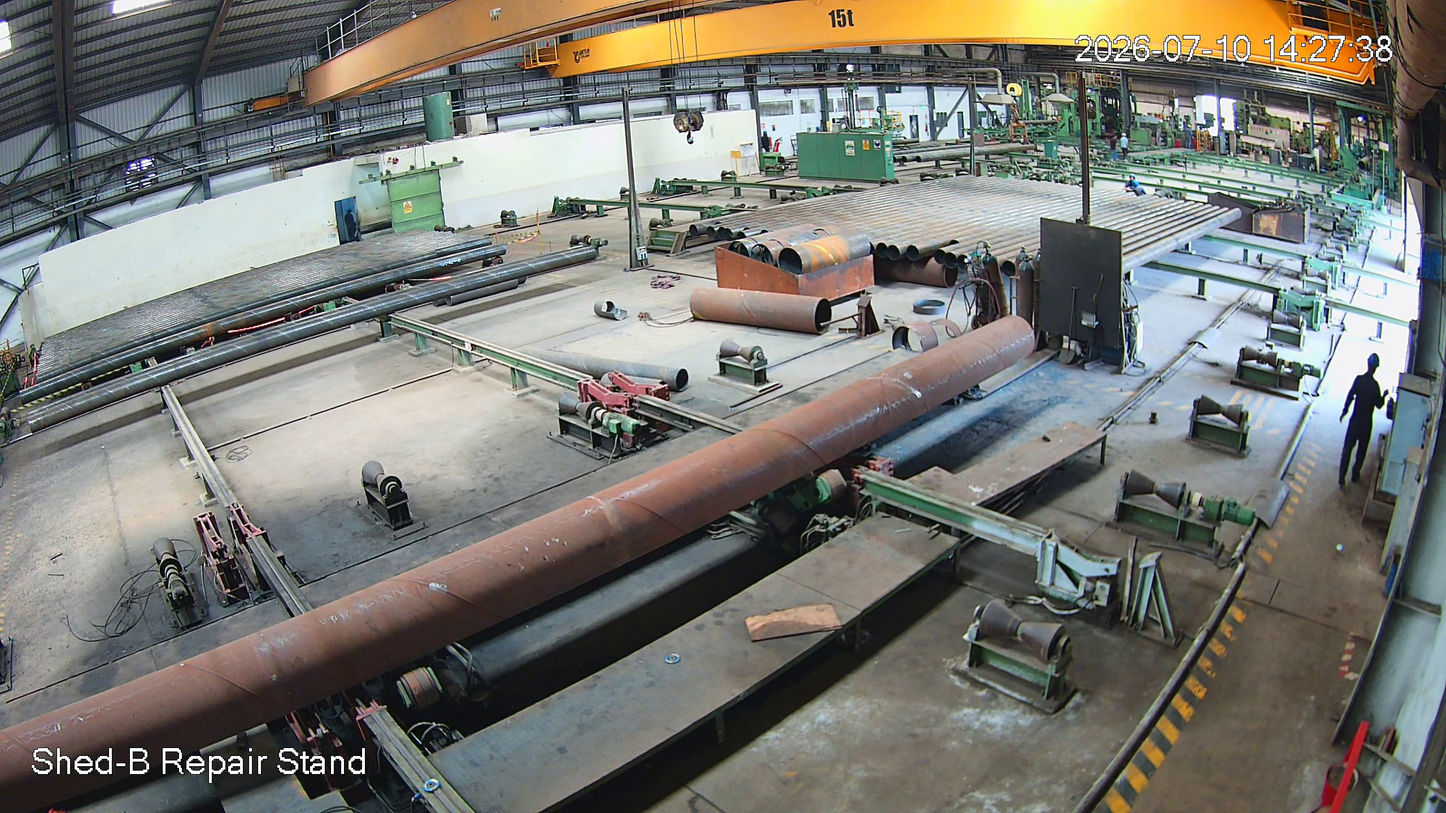Helmet: (1364, 349, 1390, 382)
Person: (1335, 353, 1394, 491)
